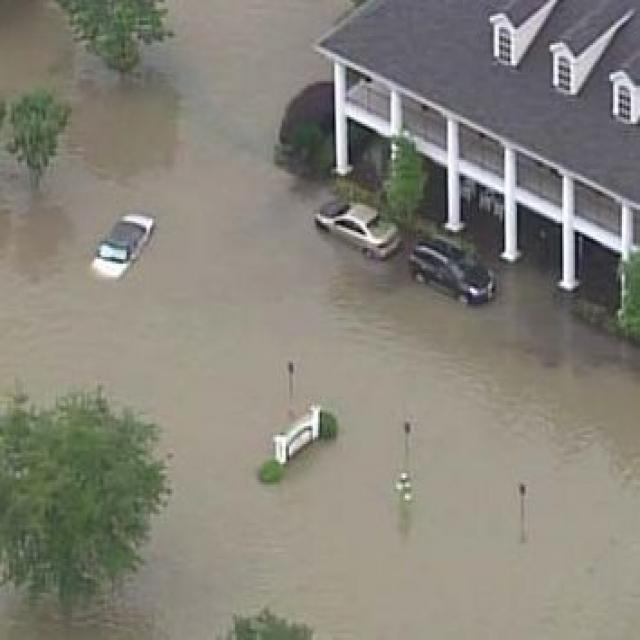flood: (0, 0, 640, 640)
house: (319, 0, 640, 277)
